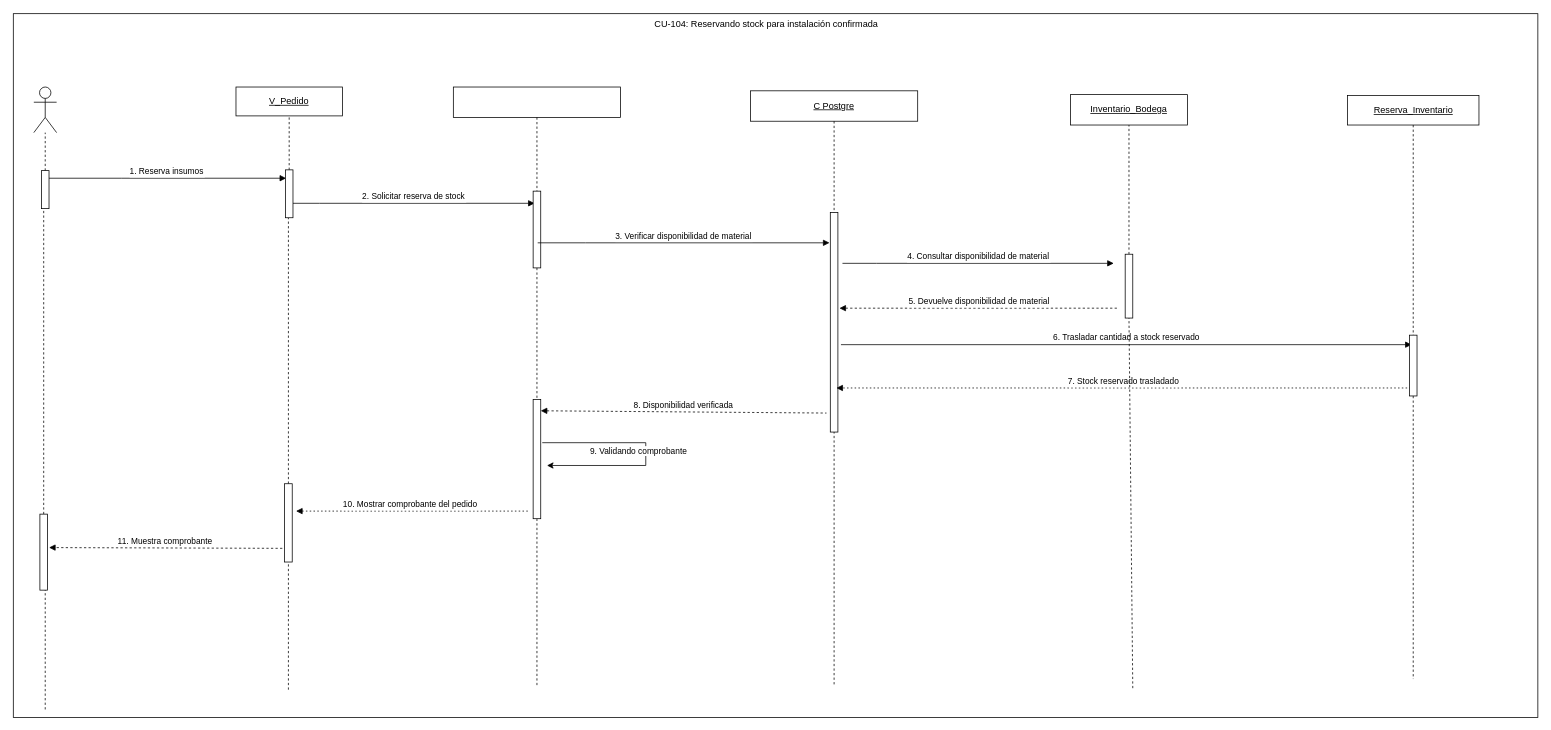
The diagram is 1551 pixels wide and 730 high, and some of its shapes have lost their labels. Here are the shapes that lost their labels. From the top down, the centre of each, then its label:
point (45, 109): JOP
point (537, 386): C materiales
